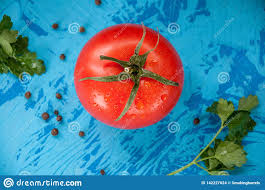tomato: (74, 24, 184, 129)
